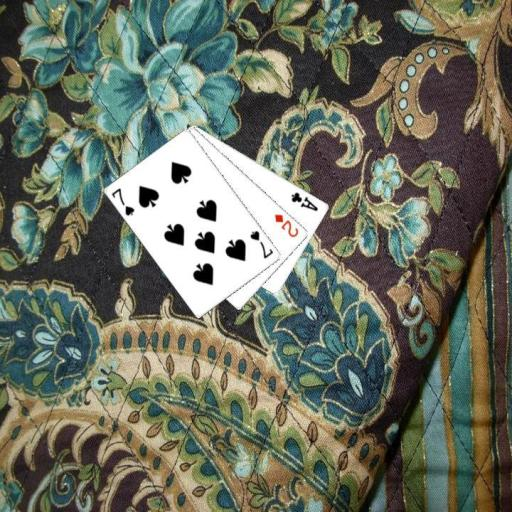2D: (272, 210, 300, 239)
7S: (247, 228, 275, 260), (109, 185, 136, 217)
AC: (288, 189, 320, 213)
